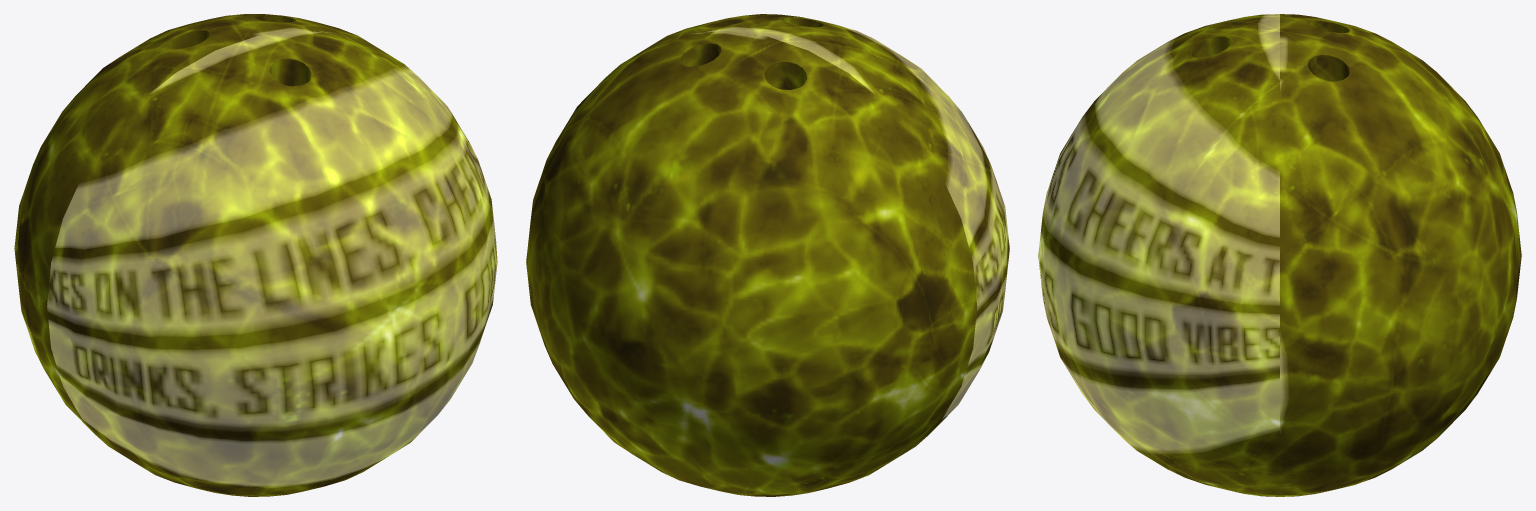
The model's file is SM_Ball_001.fbx.
The picture shows the model from 3 angles, left to right: view 1: azimuth 30°, elevation 25°; view 2: azimuth 150°, elevation 25°; view 3: azimuth 270°, elevation 25°; orthographic projection.
Parts seen in each view (by area): view 1: SM_Ball_001; view 2: SM_Ball_001; view 3: SM_Ball_001.
Part boxes in pixels (x1,y1,x2,y2): SM_Ball_001: (14, 14, 497, 496); SM_Ball_001: (526, 14, 1009, 496); SM_Ball_001: (1038, 14, 1521, 496).
Bounding box in the file's own units: 20 × 20 × 20.
1 material, 1 textured.
